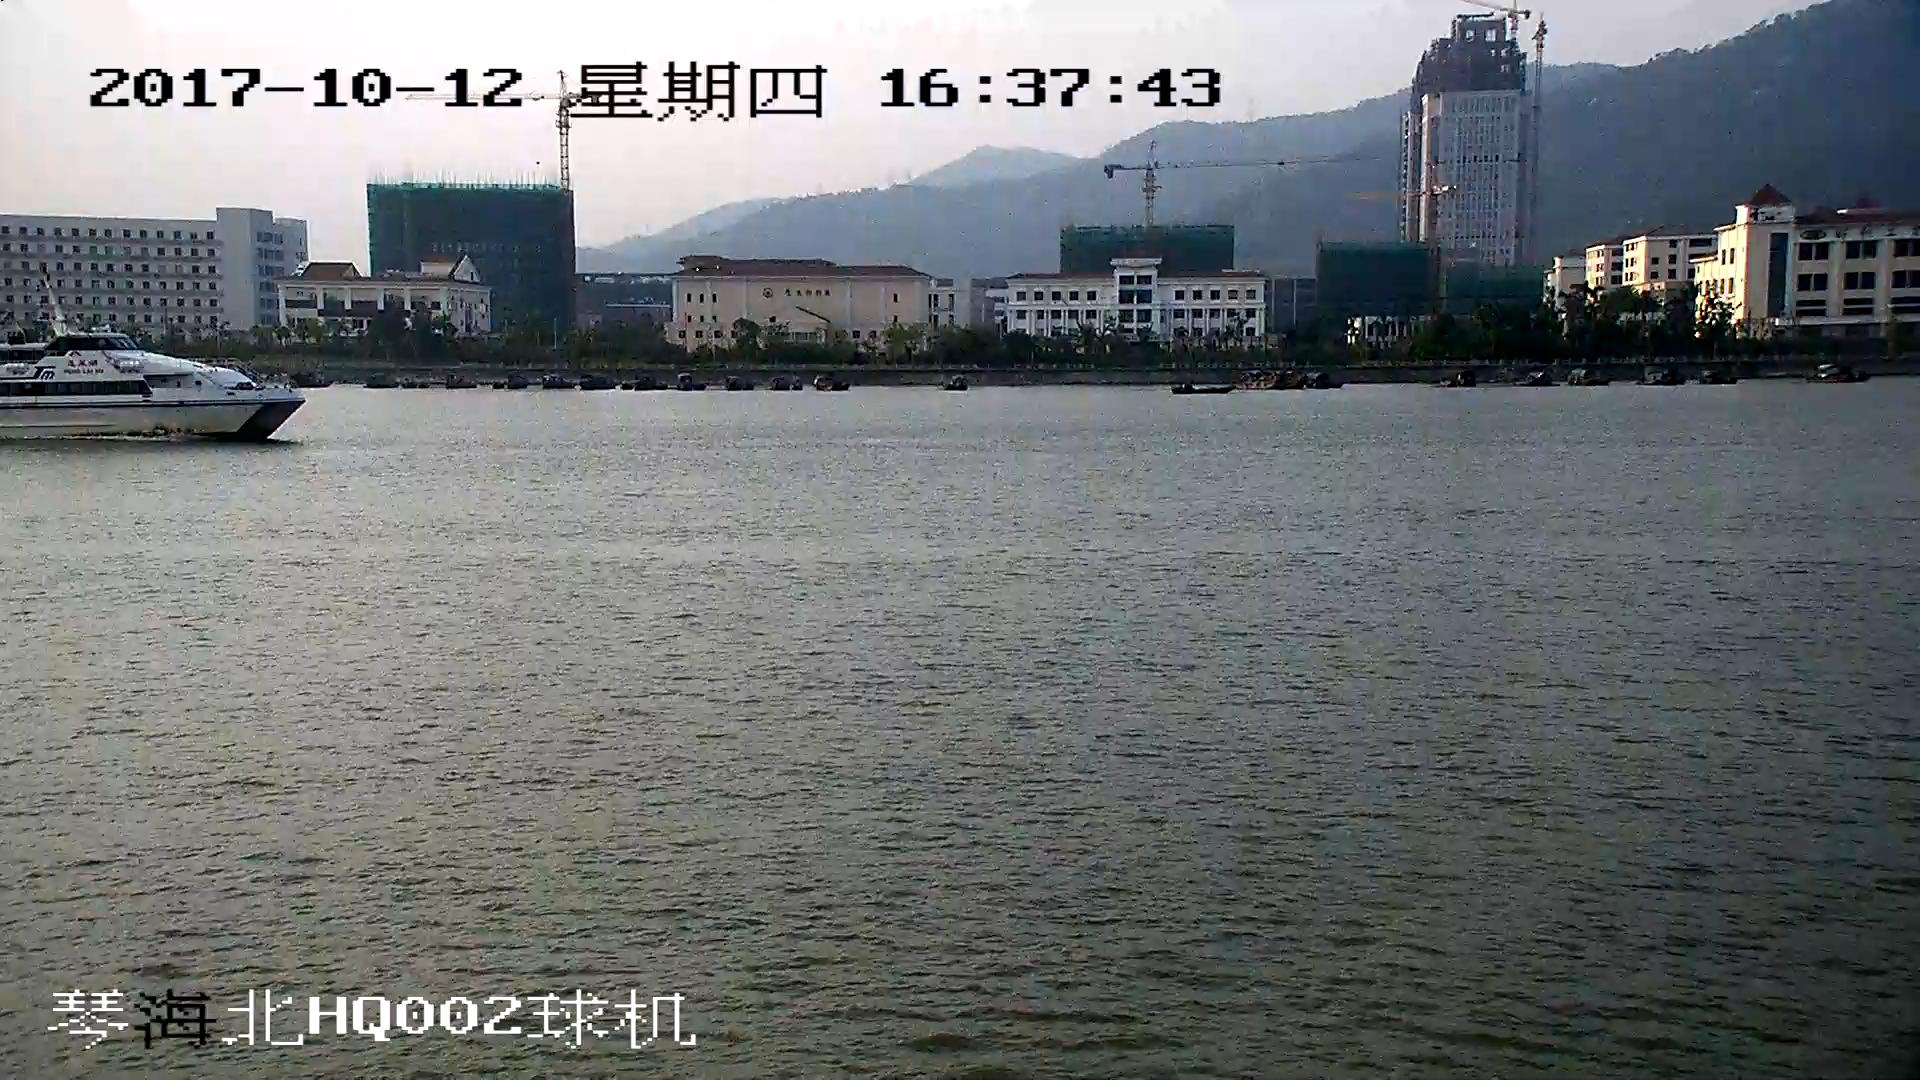passenger ship: (1, 279, 303, 441)
